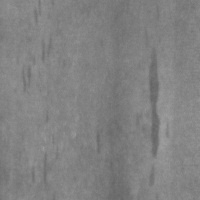inclusion: (143, 44, 172, 166), (19, 35, 54, 96), (29, 151, 54, 188), (91, 123, 108, 162), (26, 0, 50, 25)
